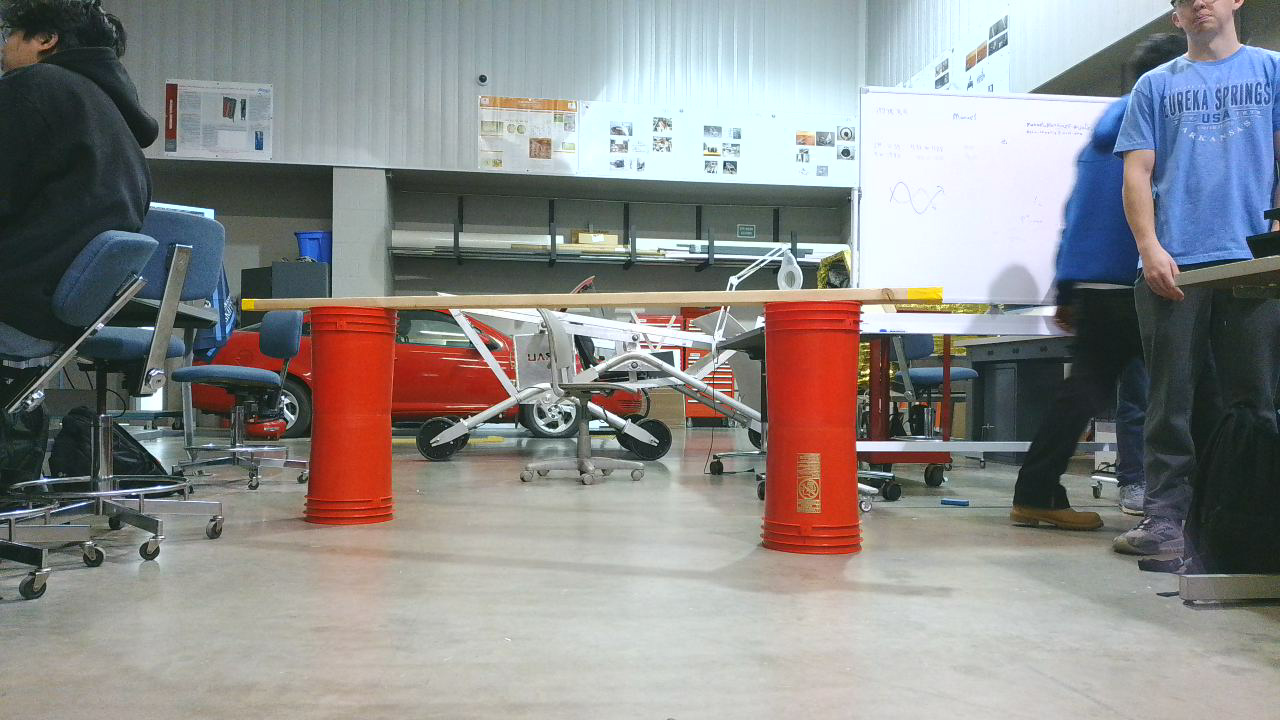red_bucket_arch: (241, 299, 912, 566)
